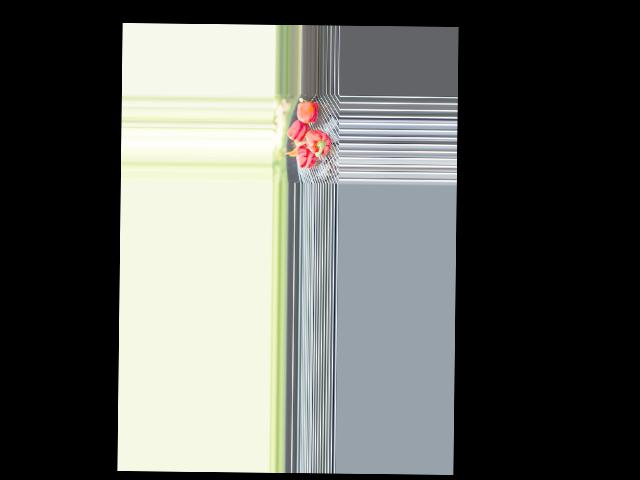bell_pepper: (295, 143, 316, 169)
